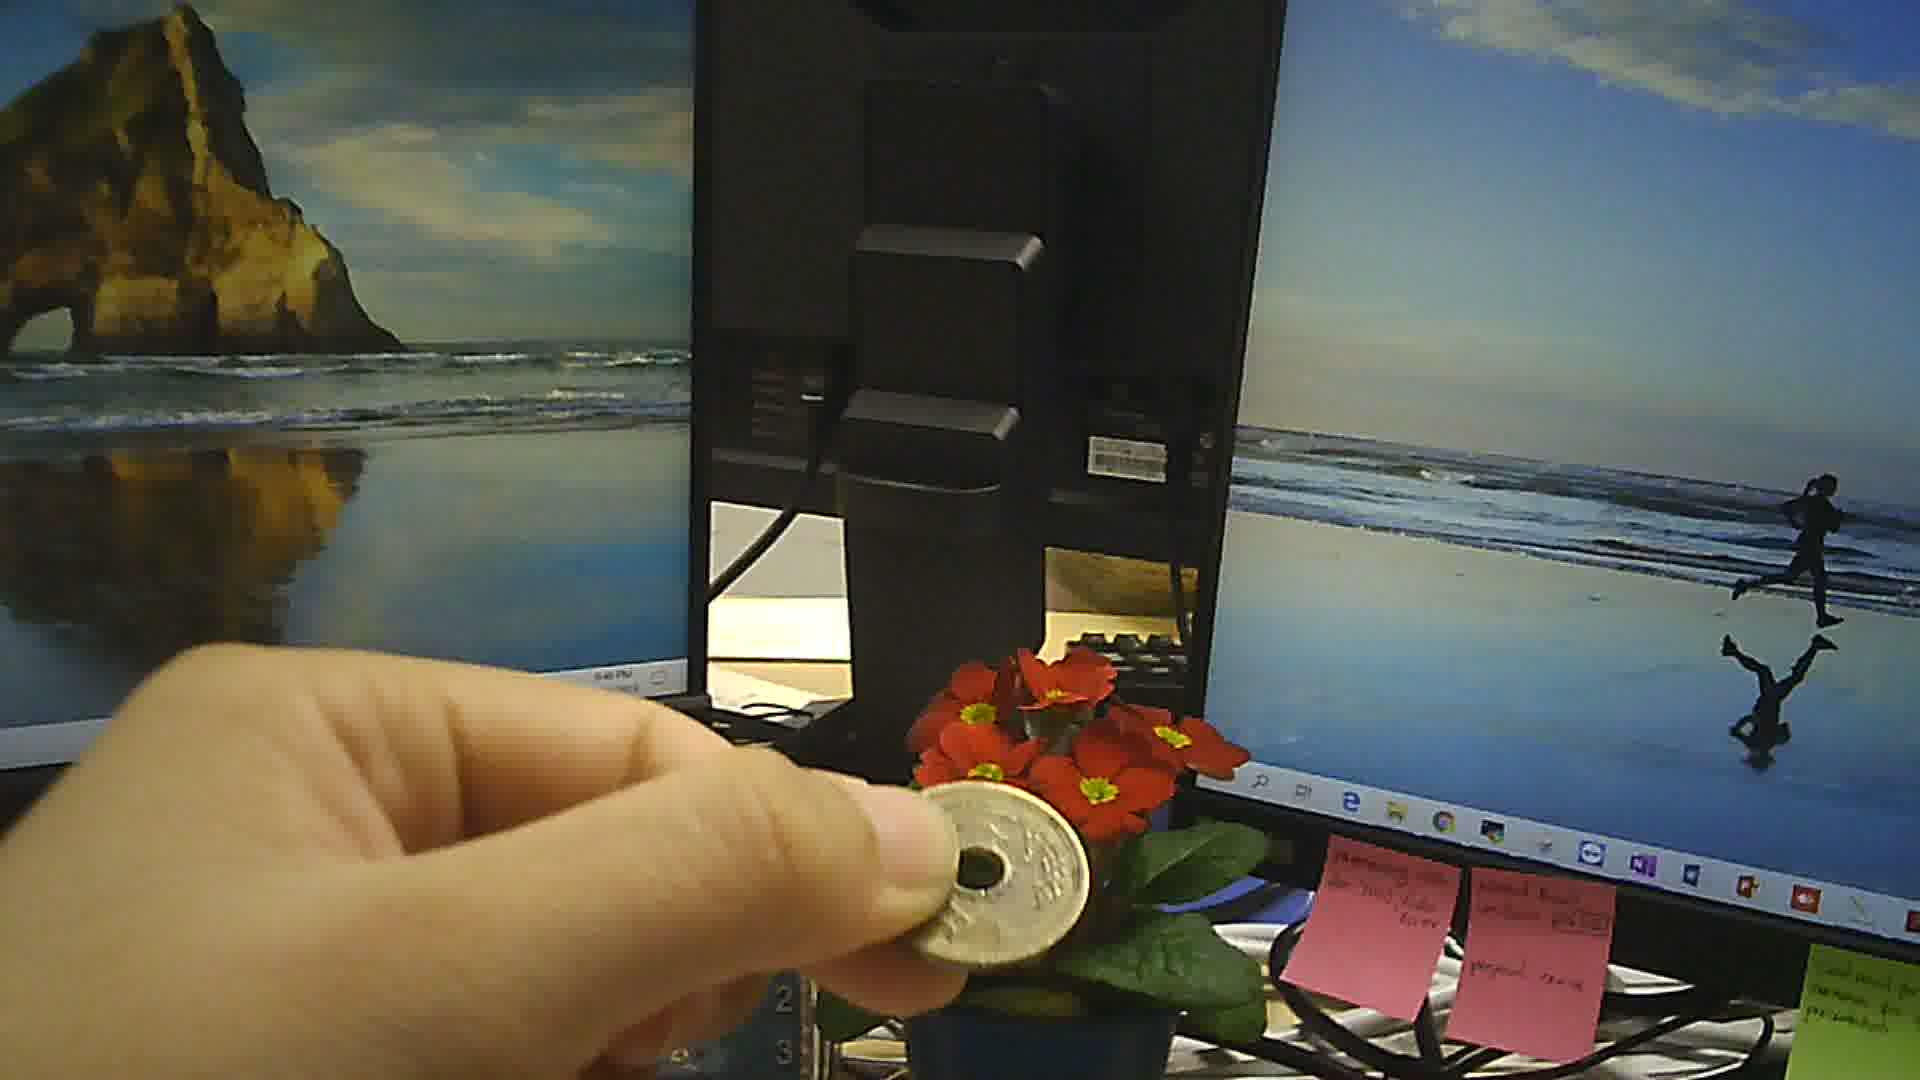5 Yen: (874, 761, 1091, 975)
